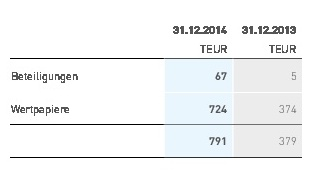table: (0, 0, 322, 173)
